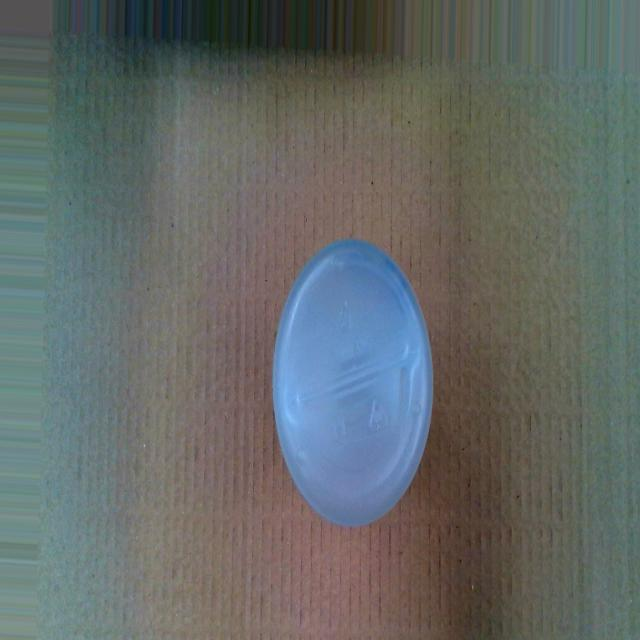bottle: (270, 232, 438, 536)
